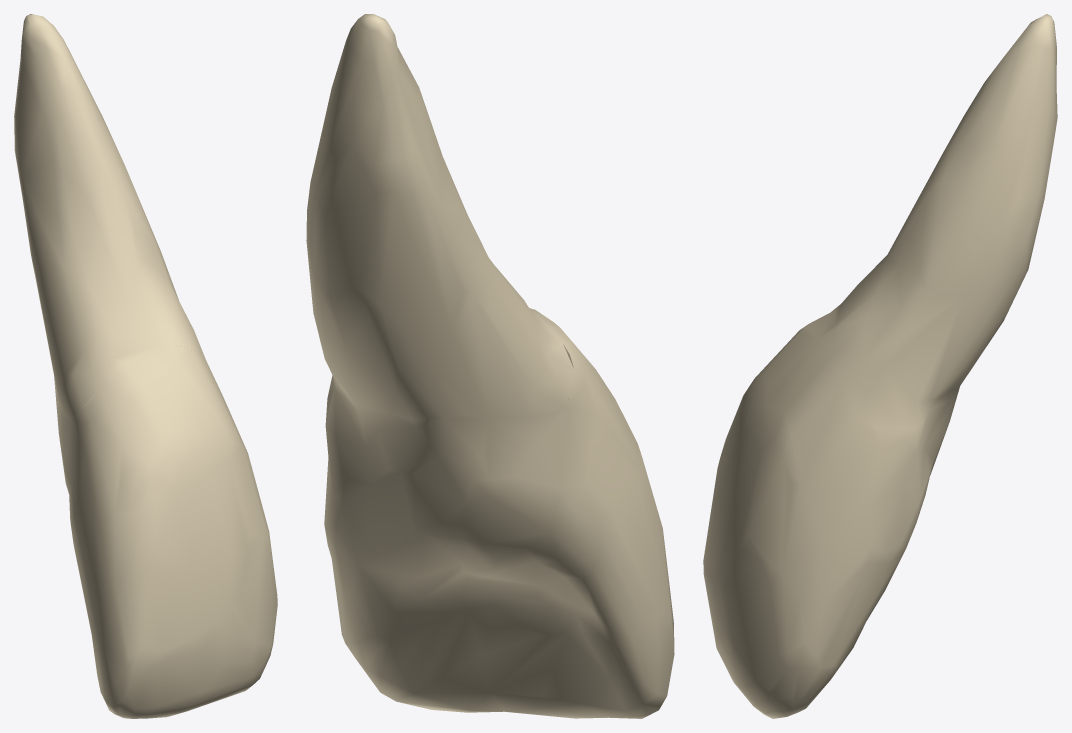
The model's file is esqueleto-upper-medial-incisor-l.glb.
The picture shows the model from 3 angles, left to right: view 1: azimuth 30°, elevation 25°; view 2: azimuth 150°, elevation 25°; view 3: azimuth 270°, elevation 25°; orthographic projection. The views are drawn at different scales.
Visible parts, largest first — view 1: Upper medial incisor.l; view 2: Upper medial incisor.l; view 3: Upper medial incisor.l.
Boxes of the visible parts, x1,y1,x2,y2 form: Upper medial incisor.l: (14,14,277,718); Upper medial incisor.l: (306,14,674,718); Upper medial incisor.l: (703,14,1057,718).
Bounding box in the file's own units: 0.00879 × 0.0258 × 0.0126.
